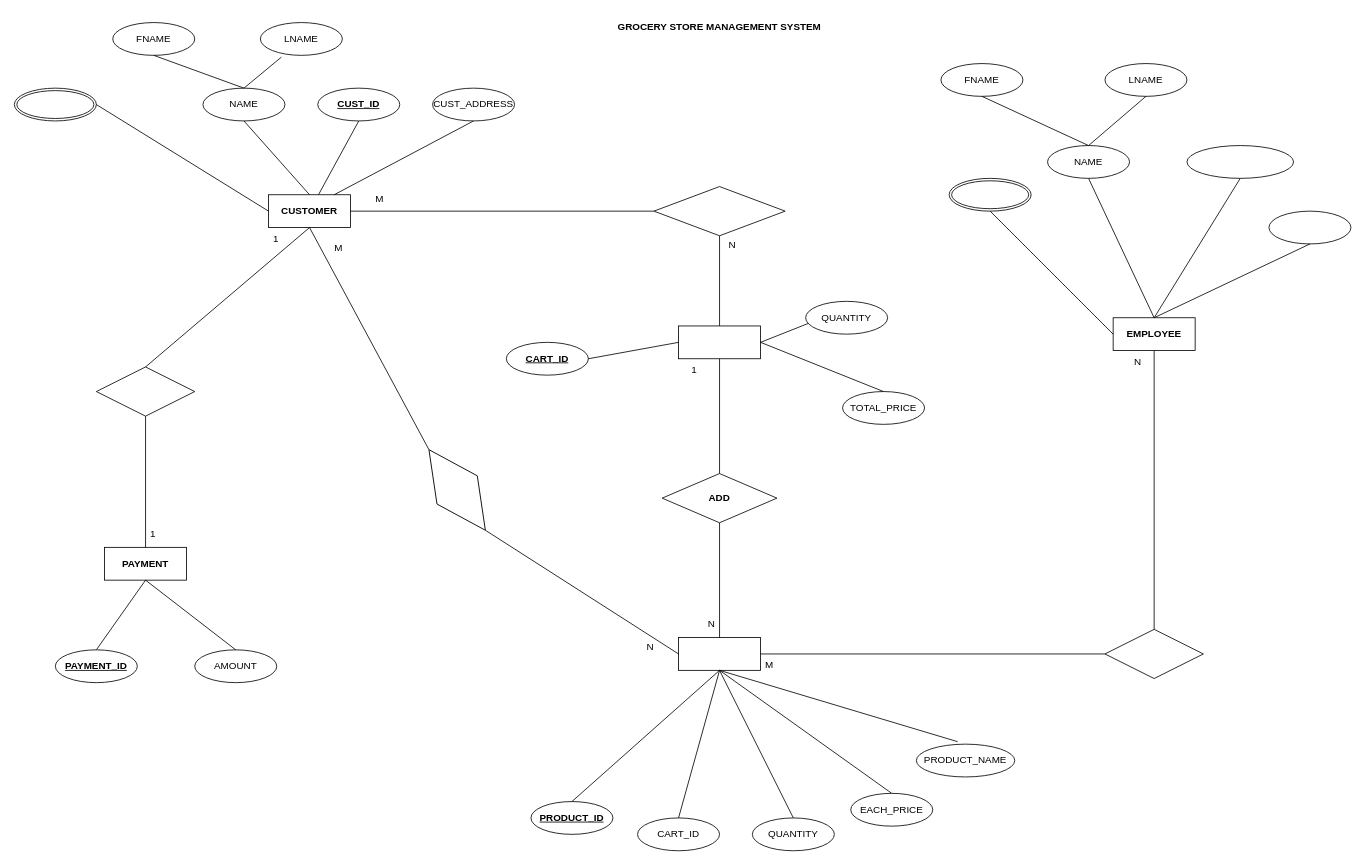
The diagram is 1365 pixels wide and 865 high, and some of its shapes have lost their labels. The shapes that lost their labels are listed below. From the top down, each one's centre as x and y in pixels, then its label:
At point 55,104: "CUST_PHONE".
At point 1240,161: "EMPLOYEE_ID".
At point 719,211: "BUYS PRODUCT".
At point 989,194: "EMP_PHONE".
At point 1309,227: "EMP_ADDRESS".
At point 719,342: "CART".
At point 145,391: "MAKES".
At point 457,489: "PURCHASED".
At point 719,653: "PRODUCT".
At point 1153,654: "MANAGES".
